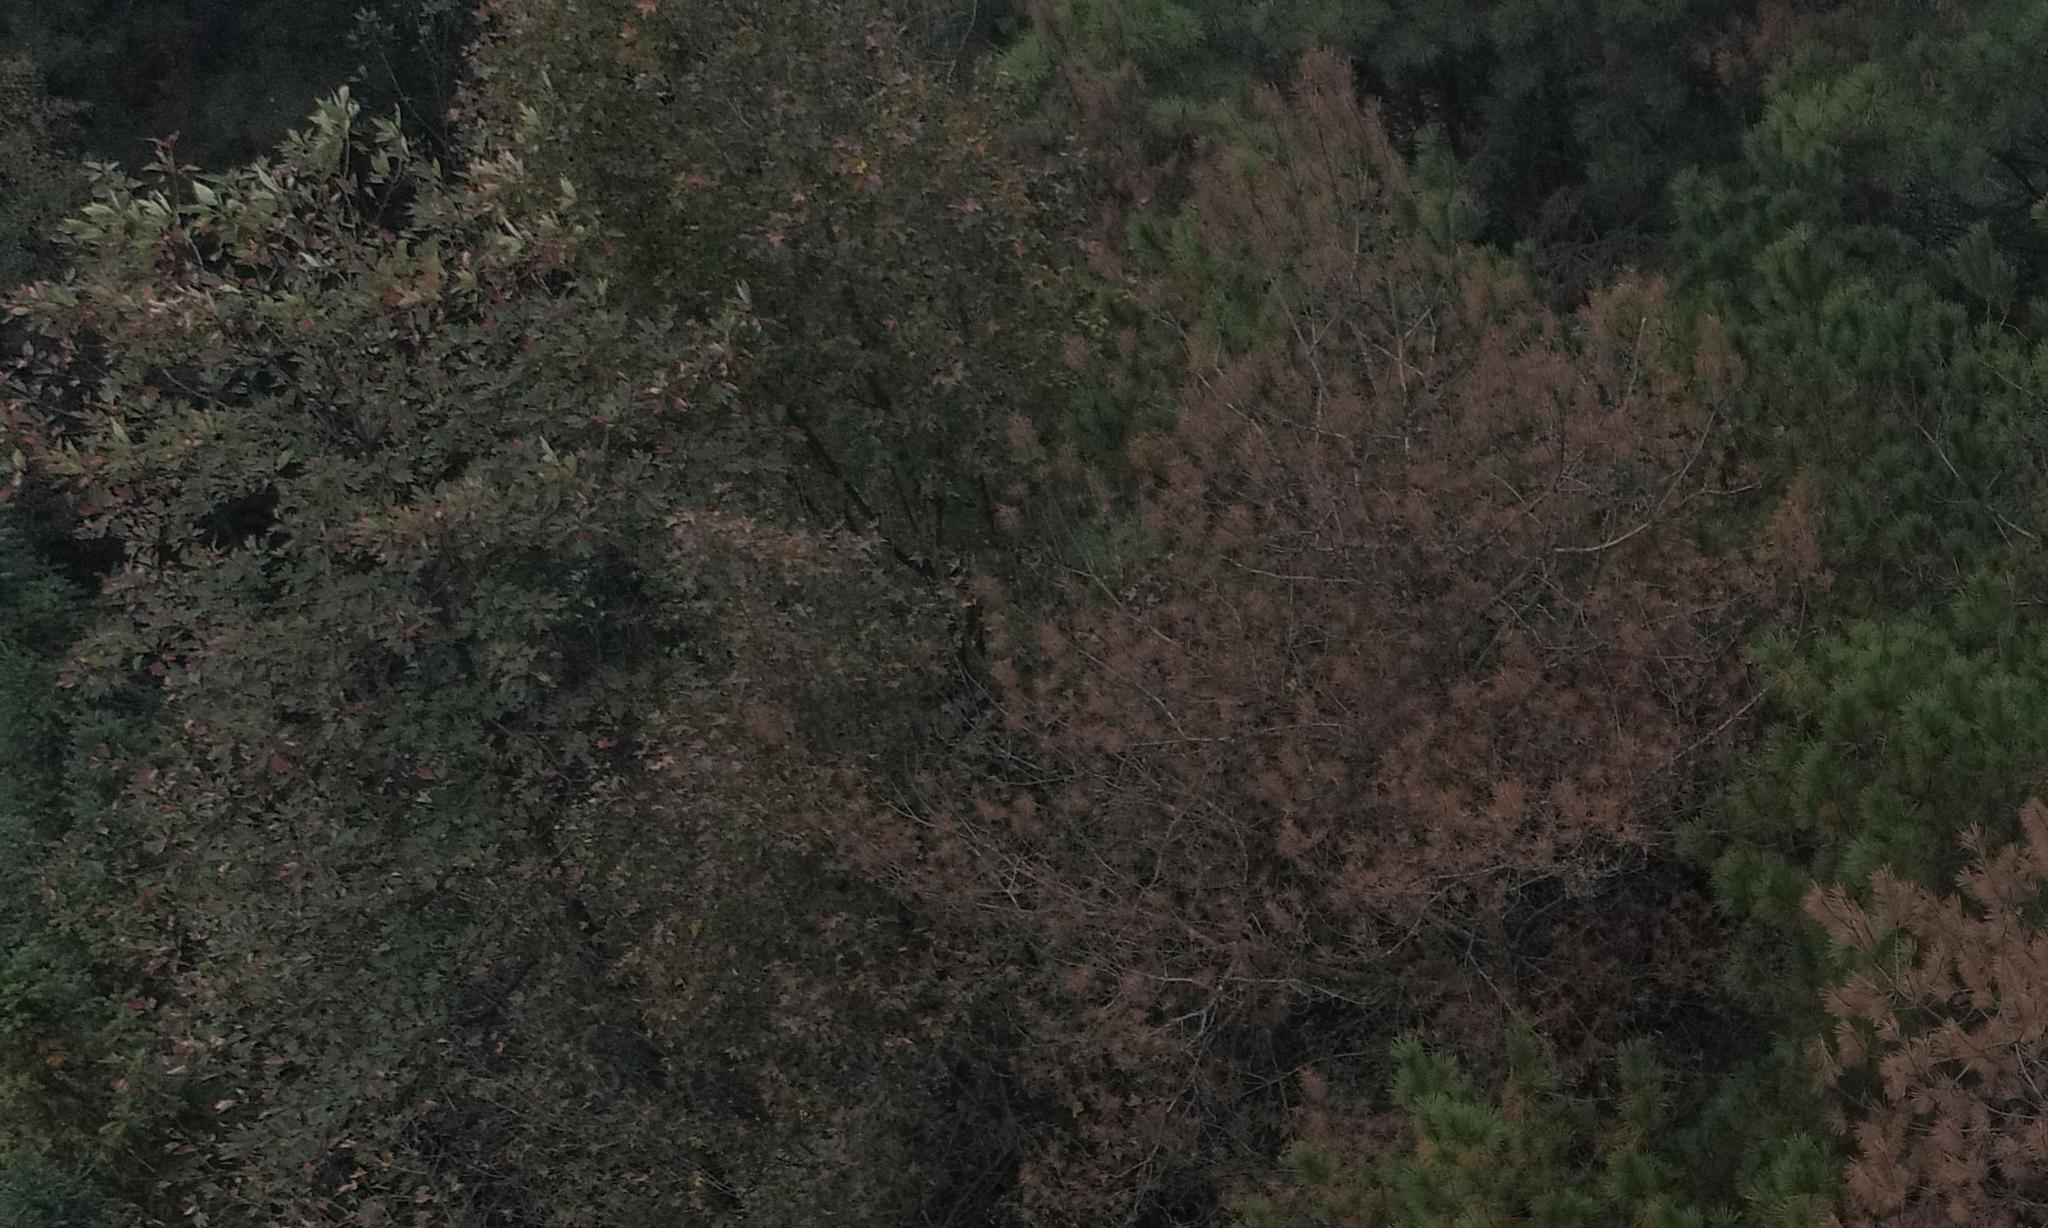heavy: (946, 63, 1697, 977), (1792, 767, 2030, 1215)
